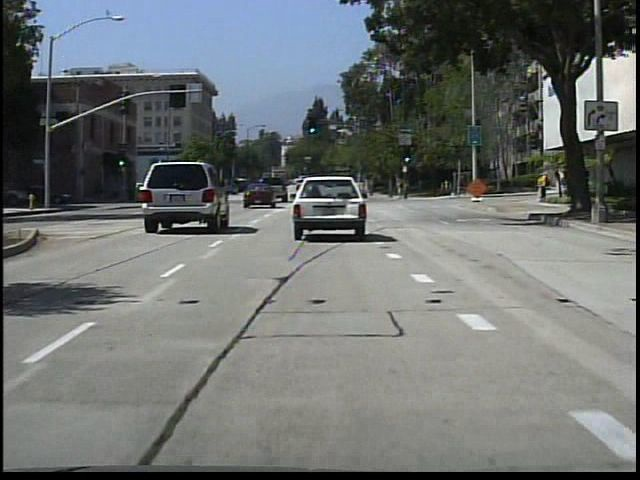person: (396, 173, 410, 203)
